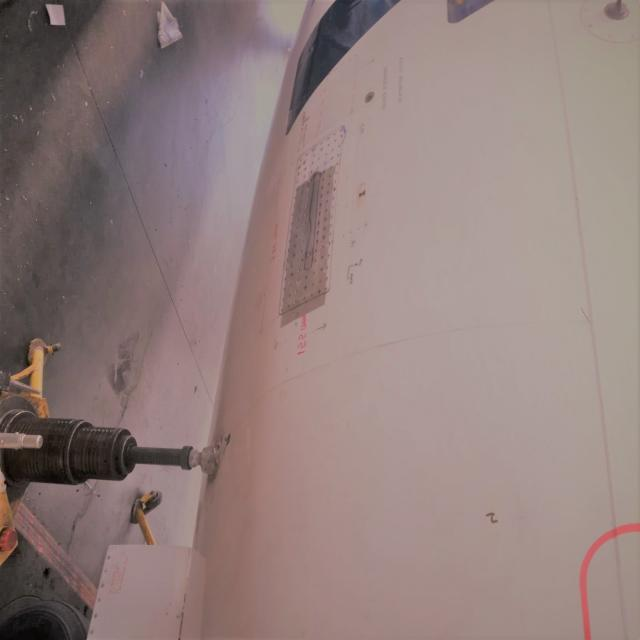Rupture: (577, 304, 592, 323)
